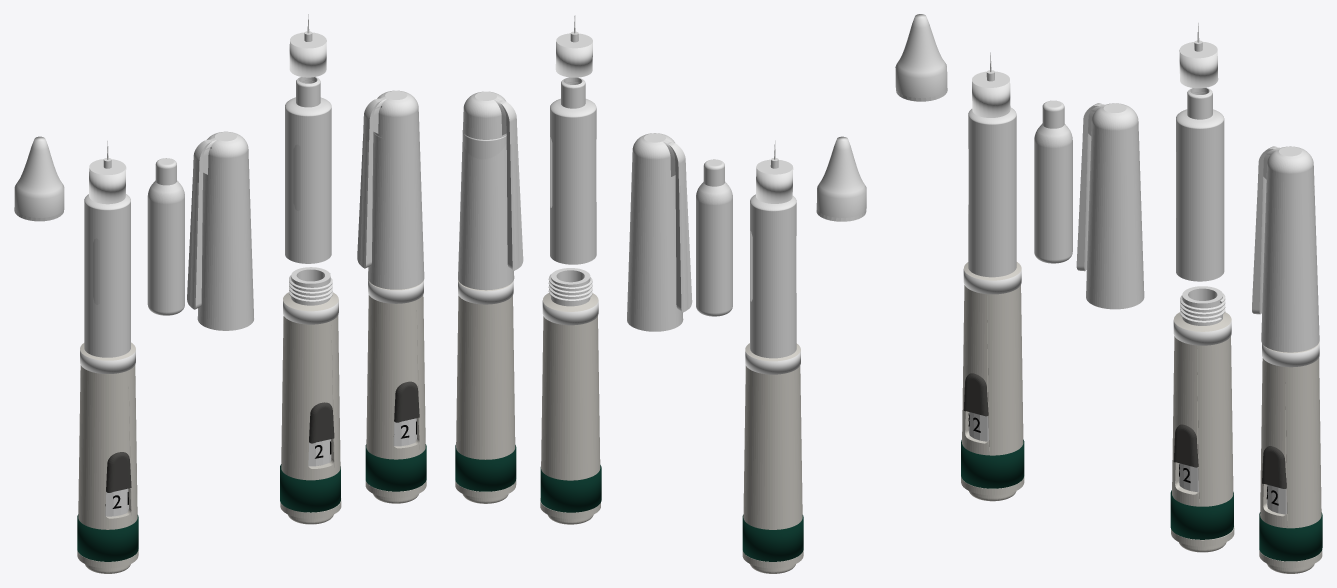
Rendered from insulin pens.fbx.
3 views of the same model, side by side, from view 1: azimuth 30°, elevation 25°; view 2: azimuth 150°, elevation 25°; view 3: azimuth 330°, elevation 25° (orthographic). The views are drawn at different scales.
Parts seen in each view (by area): view 1: Cylinder.011, Circle, Circle.001, Cylinder, Cylinder.005, Cylinder.013, Cylinder.001, Cylinder.003, Cylinder.006, Cylinder.008, Cylinder.002, Cylinder.016 (+4 smaller); view 2: Cylinder.011, Circle, Cylinder, Circle.001, Cylinder.005, Cylinder.013, Cylinder.001, Cylinder.003, Cylinder.006, Cylinder.016, Cylinder.002, Cylinder.008 (+3 smaller); view 3: Cylinder.011, Circle.001, Circle, Cylinder, Cylinder.005, Cylinder.013, Cylinder.001, Cylinder.003, Cylinder.006, Cylinder.008, Cylinder.002, Cylinder.016 (+2 smaller).
Part boxes in pixels (left/top/right/bottom): Cylinder.011: left=280, top=267, right=341, bottom=524; Circle: left=187, top=131, right=253, bottom=330; Circle.001: left=357, top=90, right=424, bottom=289; Cylinder: left=77, top=342, right=138, bottom=573; Cylinder.005: left=365, top=279, right=426, bottom=503; Cylinder.013: left=285, top=77, right=331, bottom=263; Cylinder.001: left=84, top=194, right=130, bottom=357; Cylinder.003: left=147, top=158, right=184, bottom=315; Cylinder.006: left=14, top=136, right=64, bottom=221; Cylinder.008: left=365, top=444, right=426, bottom=491; Cylinder.002: left=77, top=514, right=138, bottom=561; Cylinder.016: left=280, top=464, right=340, bottom=512; Cylinder.011: left=540, top=268, right=600, bottom=524; Circle: left=627, top=133, right=692, bottom=331; Cylinder: left=742, top=343, right=803, bottom=573; Circle.001: left=458, top=91, right=523, bottom=290; Cylinder.005: left=455, top=280, right=516, bottom=503; Cylinder.013: left=550, top=77, right=596, bottom=264; Cylinder.001: left=750, top=194, right=796, bottom=358; Cylinder.003: left=696, top=159, right=732, bottom=316; Cylinder.006: left=816, top=136, right=866, bottom=221; Cylinder.016: left=540, top=465, right=601, bottom=512; Cylinder.002: left=742, top=514, right=803, bottom=561; Cylinder.008: left=455, top=445, right=516, bottom=491; Cylinder.011: left=1171, top=286, right=1234, bottom=552; Circle.001: left=1252, top=146, right=1319, bottom=352; Circle: left=1076, top=103, right=1144, bottom=309; Cylinder: left=961, top=262, right=1024, bottom=501; Cylinder.005: left=1259, top=341, right=1322, bottom=573; Cylinder.013: left=1176, top=87, right=1224, bottom=281; Cylinder.001: left=968, top=107, right=1016, bottom=277; Cylinder.003: left=1034, top=100, right=1072, bottom=263; Cylinder.006: left=895, top=14, right=947, bottom=101; Cylinder.008: left=1259, top=512, right=1322, bottom=561; Cylinder.002: left=961, top=439, right=1024, bottom=488; Cylinder.016: left=1170, top=490, right=1233, bottom=539.
Bounding box in the file's own units: 186 × 221 × 24.73.
